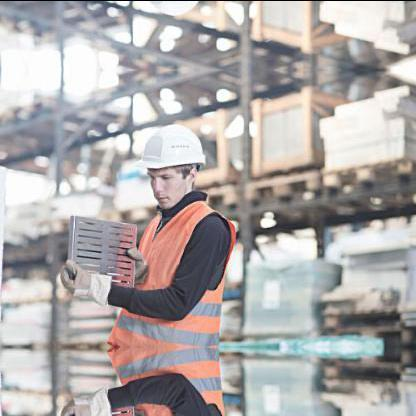Helmet: (132, 114, 211, 208), (132, 0, 213, 23)
